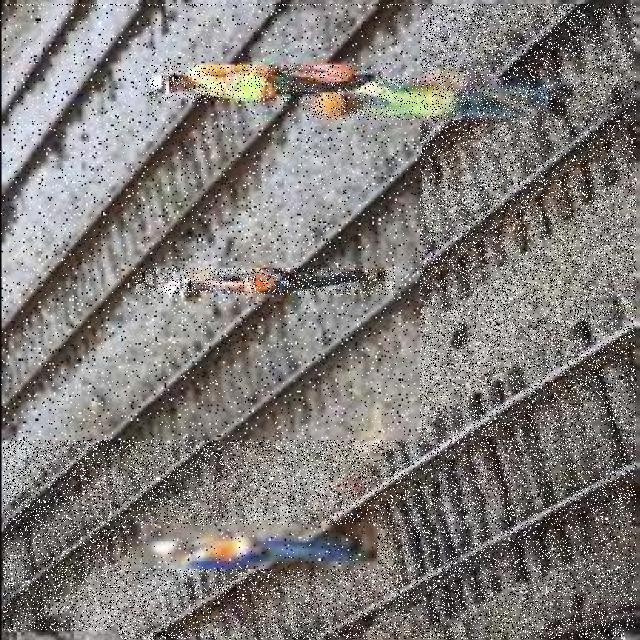rail: (5, 5, 637, 632), (1, 7, 421, 441), (121, 292, 626, 640)
